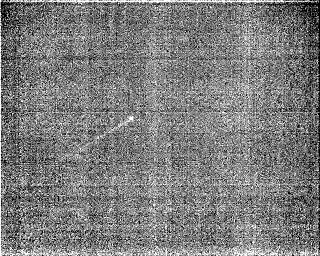AIRPLANE: (69, 116, 135, 158)
